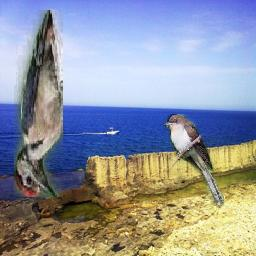Cuckoo: (164, 114, 225, 206)
Woodpecker: (15, 11, 64, 198)
